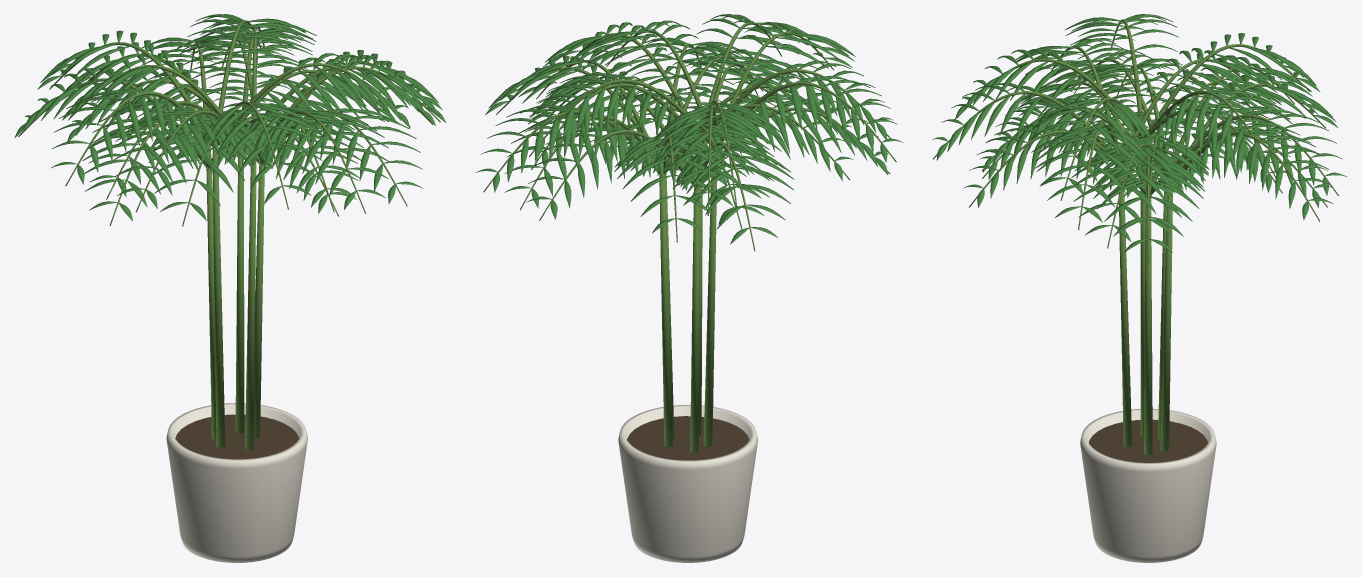
File: areca.glb
3 views of the same model, side by side, from view 1: azimuth 30°, elevation 25°; view 2: azimuth 150°, elevation 25°; view 3: azimuth 270°, elevation 25° (orthographic). The views are drawn at different scales.
Parts seen in each view (by area): view 1: Areca paired leaflets, Plain ceramic planter, Soil surface, Palm cane.004, Palm cane.002, Palm cane.003, Palm cane, Palm cane.001, Areca palm rachis.022, Areca palm rachis.020; view 2: Areca paired leaflets, Plain ceramic planter, Soil surface, Palm cane.003, Palm cane.004, Palm cane.001, Palm cane.002, Areca palm rachis.023, Palm cane, Areca palm rachis.020, Areca palm rachis.022, Areca palm rachis.021; view 3: Areca paired leaflets, Plain ceramic planter, Soil surface, Palm cane.003, Palm cane.002, Palm cane, Palm cane.004, Palm cane.001, Areca palm rachis.024.
Part boxes in pixels (x1,y1,x2,y2): Areca paired leaflets: (14,14,445,221); Plain ceramic planter: (166,403,307,562); Soil surface: (175,414,298,459); Palm cane.004: (212,147,225,448); Palm cane.002: (245,160,256,449); Palm cane.003: (235,155,244,433); Palm cane: (254,165,264,437); Palm cane.001: (206,168,216,440); Areca palm rachis.022: (219,63,410,144); Areca palm rachis.020: (65,91,212,185); Areca paired leaflets: (475,14,903,244); Plain ceramic planter: (618,405,758,562); Soil surface: (627,416,749,460); Palm cane.003: (659,175,673,447); Palm cane.004: (703,156,716,446); Palm cane.001: (690,187,699,452); Palm cane.002: (699,186,702,435); Areca palm rachis.023: (529,79,712,156); Palm cane: (665,173,674,438); Areca palm rachis.020: (720,82,896,162); Areca palm rachis.022: (606,30,709,131); Areca palm rachis.021: (721,32,833,124); Areca paired leaflets: (932,14,1347,252); Plain ceramic planter: (1080,408,1216,562); Soil surface: (1089,419,1207,462); Palm cane.003: (1160,189,1172,451); Palm cane.002: (1118,178,1132,447); Palm cane: (1144,197,1152,455); Palm cane.004: (1140,159,1145,437); Palm cane.001: (1158,191,1167,439); Areca palm rachis.024: (1148,44,1310,130).
Size of the model in its own units: 1.58 by 1.89 by 1.52.
4 materials, 4 textured.
